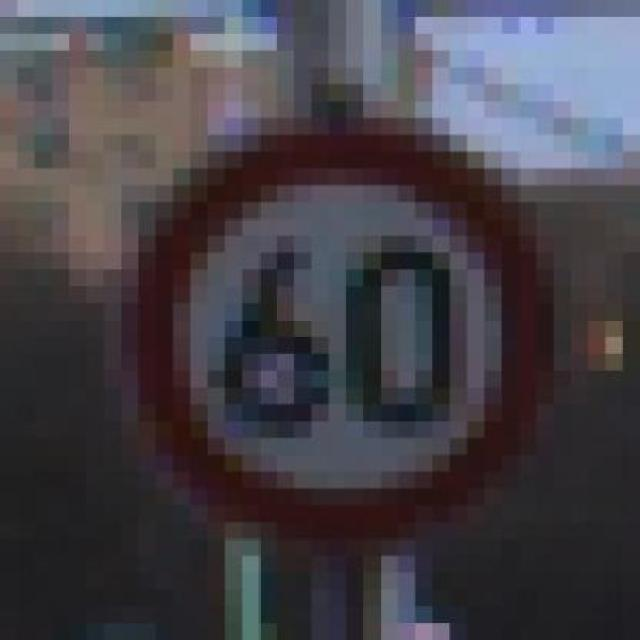forb_speed_over_60: (146, 140, 535, 525)
